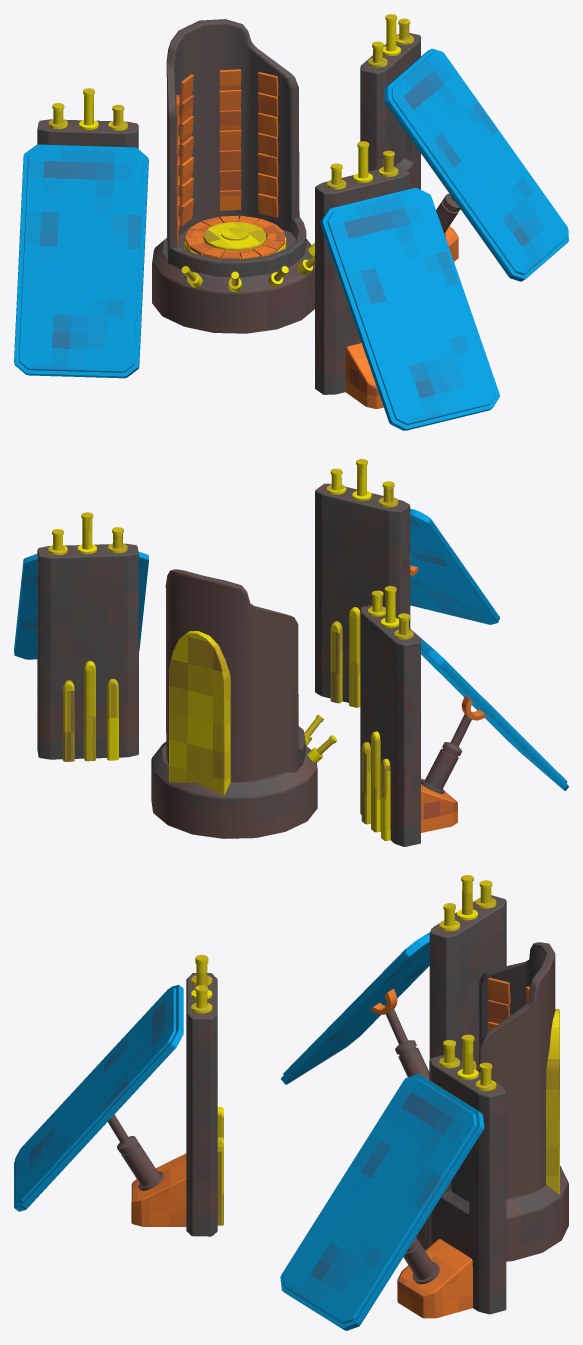
Rendered from mars_solar.glb.
The picture shows the model from 3 angles, top to bottom: view 1: azimuth 30°, elevation 25°; view 2: azimuth 150°, elevation 25°; view 3: azimuth 270°, elevation 25°; orthographic projection. The views are drawn at different scales.
Visible parts, largest first — view 1: Solar_generator; view 2: Solar_generator; view 3: Solar_generator.
Part boxes in pixels (left/top/right/bottom): Solar_generator: left=14, top=14, right=568, bottom=430; Solar_generator: left=14, top=459, right=568, bottom=846; Solar_generator: left=14, top=875, right=568, bottom=1330.
Bounding box in the file's own units: 8.09 × 3.52 × 6.5.
Materials: 4 (4 with a texture image).
